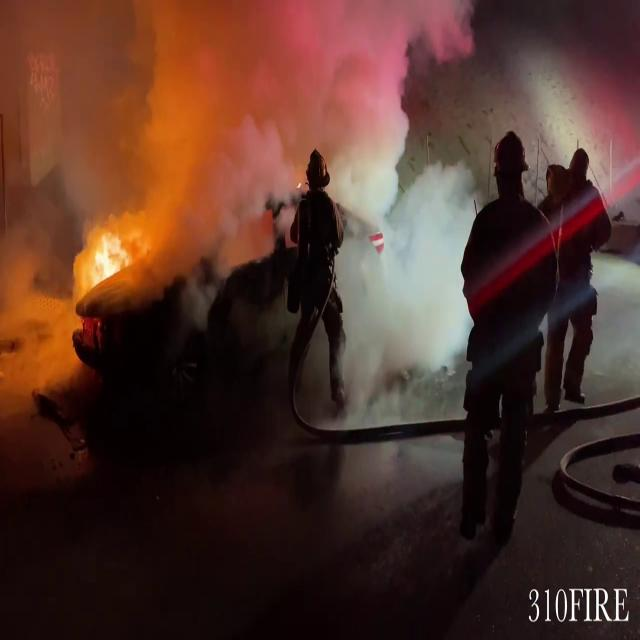Fire: (79, 224, 135, 294)
Smoke: (2, 0, 464, 272)
